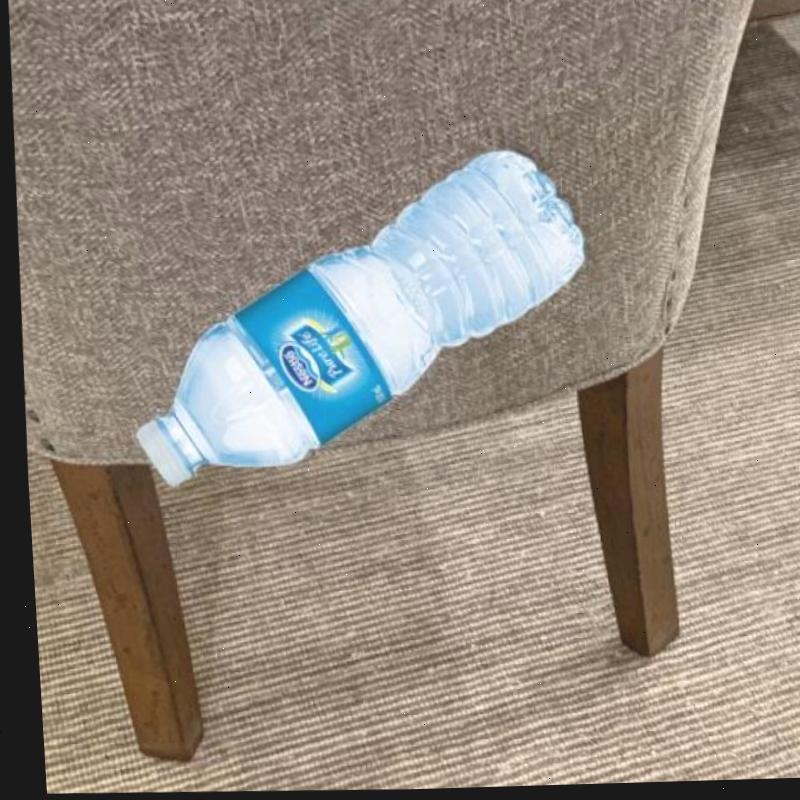botella: (109, 143, 595, 495)
